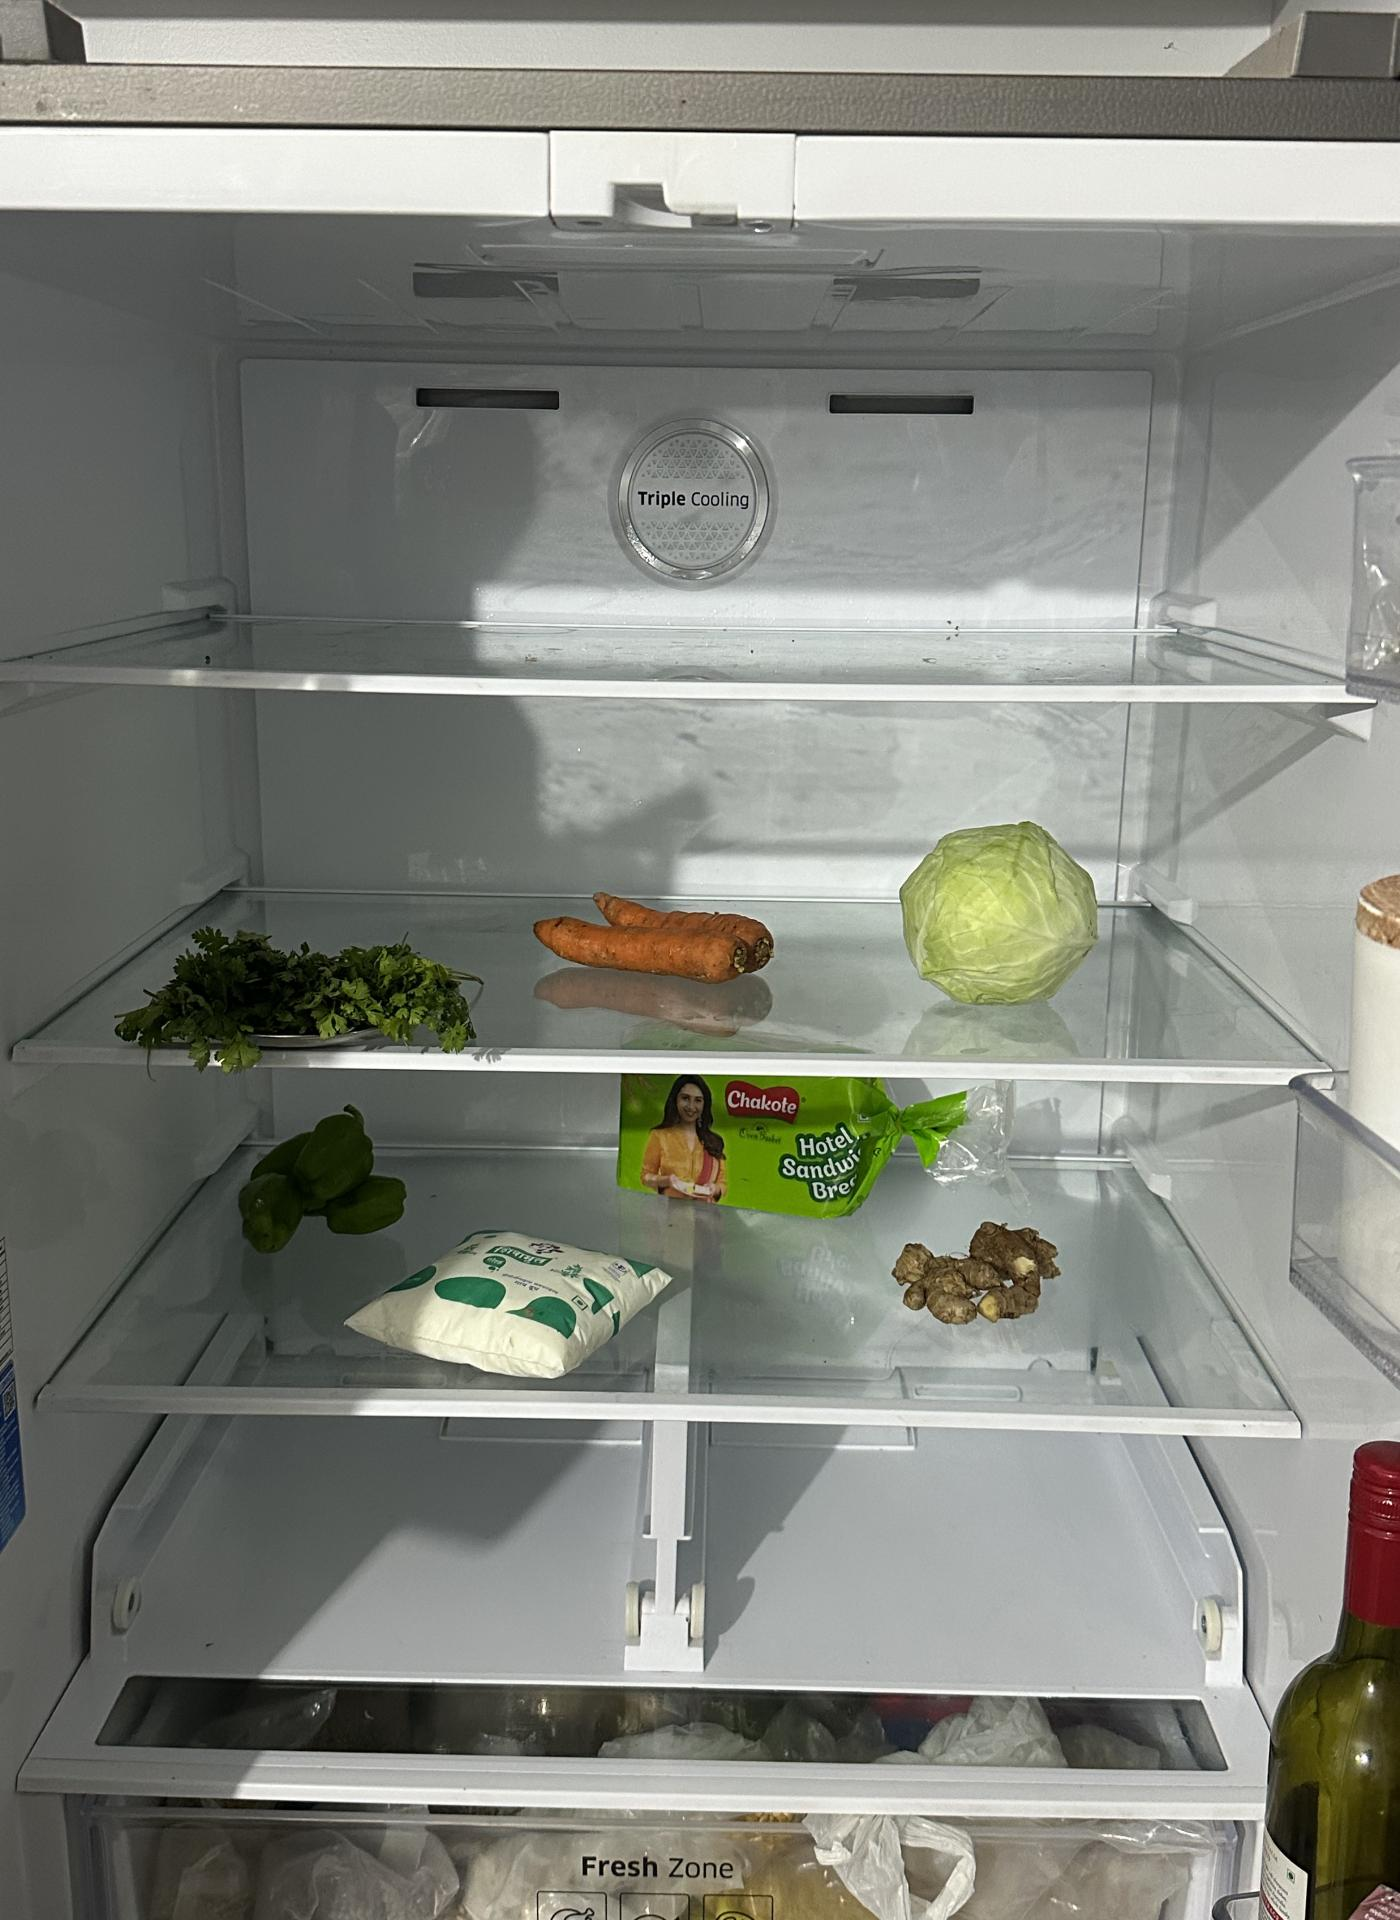bread: (620, 1067, 906, 1207)
cabbage: (900, 819, 1097, 1009)
capsicum: (238, 1116, 404, 1250)
carrots: (536, 887, 777, 971)
coriander: (135, 936, 482, 1060)
ginger: (897, 1219, 1063, 1322)
milk: (350, 1236, 677, 1381)
